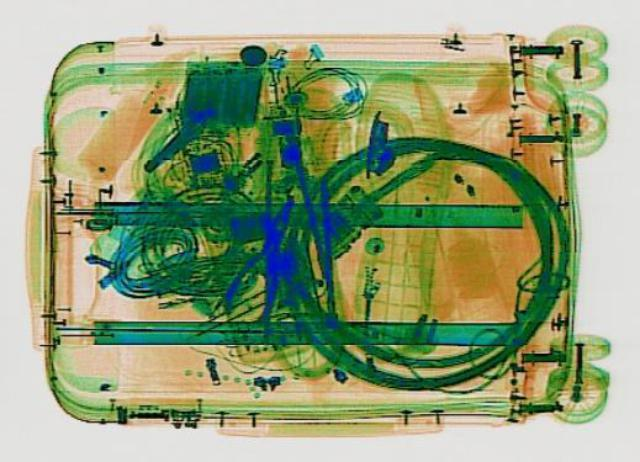Pliers: (214, 193, 316, 321)
